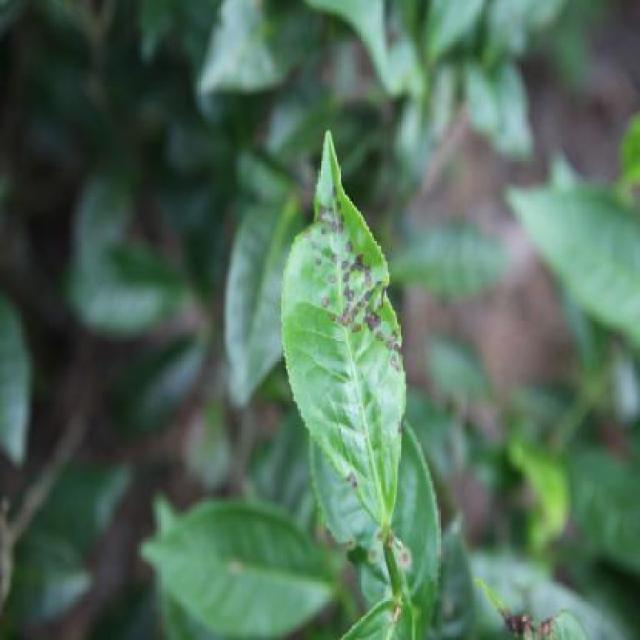Tea Mosquito bug infested leaf: (272, 131, 425, 563)
